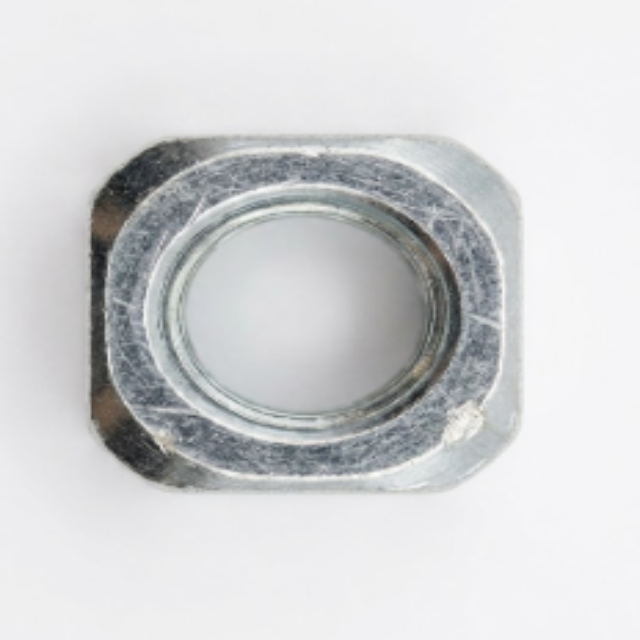defect: (430, 394, 499, 446), (163, 191, 211, 254), (403, 185, 461, 234), (462, 296, 512, 346)
